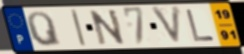7: (121, 6, 146, 48)
I: (69, 9, 88, 48)
L: (184, 8, 217, 43)
N: (88, 8, 127, 46)
Q: (25, 10, 63, 47)
V: (149, 5, 183, 47)
